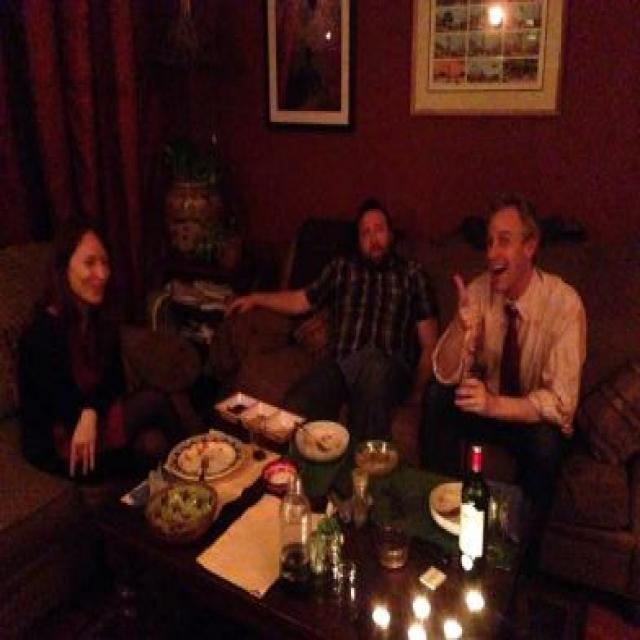Bottle: (449, 437, 497, 601), (278, 478, 313, 585)
People: (424, 187, 589, 514), (29, 207, 144, 518), (295, 192, 428, 419)
Table: (103, 376, 540, 640), (143, 249, 244, 378)
